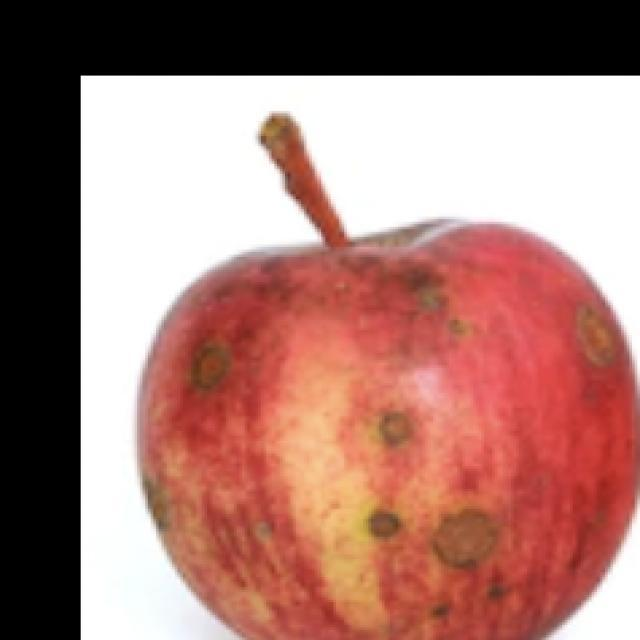Rotten: (126, 203, 639, 640)
